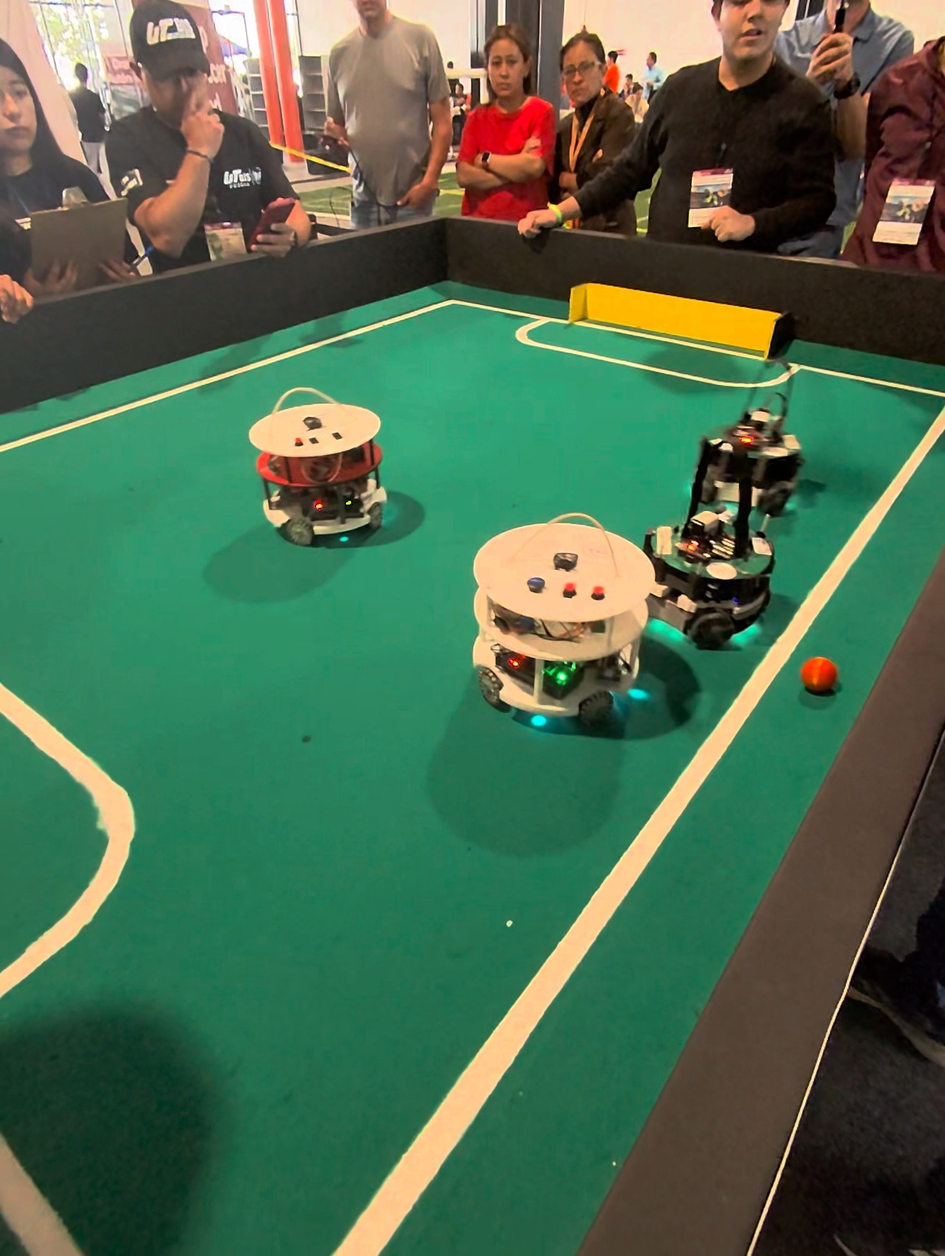Robot: (467, 486, 657, 753), (648, 432, 779, 671), (249, 372, 401, 553), (709, 378, 809, 518)
pelota: (800, 657, 842, 699)
